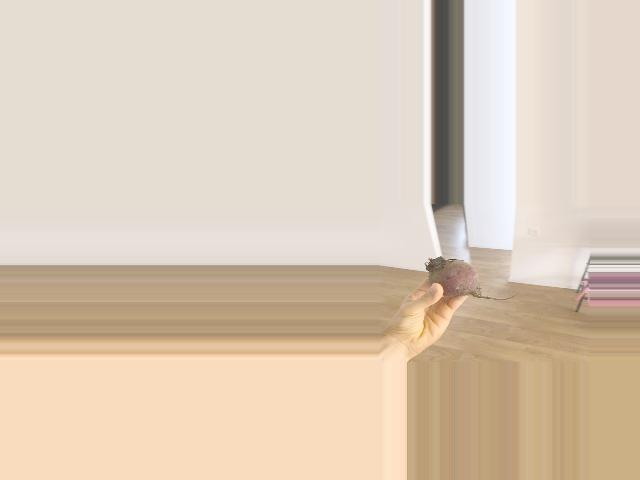beet: (426, 257, 518, 300)
